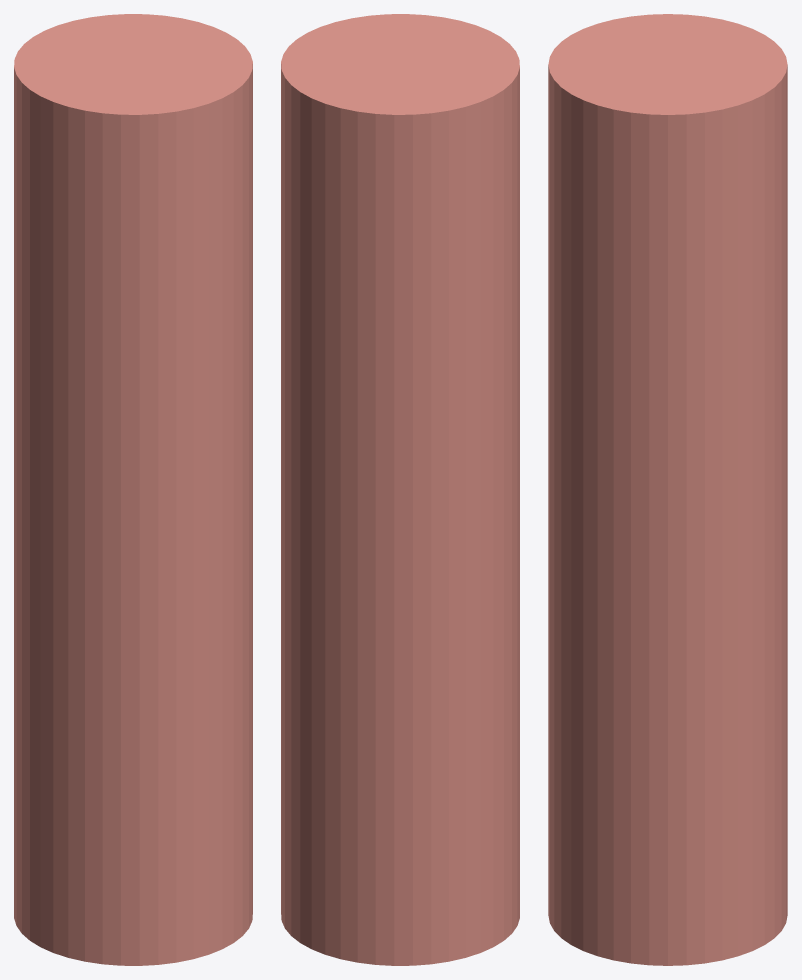
Rendered from gen_aerosol-can_01.glb.
3 views of the same model, side by side, from view 1: azimuth 30°, elevation 25°; view 2: azimuth 150°, elevation 25°; view 3: azimuth 270°, elevation 25° (orthographic).
Visible parts, largest first — view 1: z-up-to-y-up; view 2: z-up-to-y-up; view 3: z-up-to-y-up.
Boxes of the visible parts, x1=… form: z-up-to-y-up: x1=14, y1=14, x2=252, y2=965; z-up-to-y-up: x1=281, y1=14, x2=519, y2=965; z-up-to-y-up: x1=548, y1=14, x2=787, y2=965.
Size of the model in its own units: 0.0473 by 0.1858 by 0.0473.
